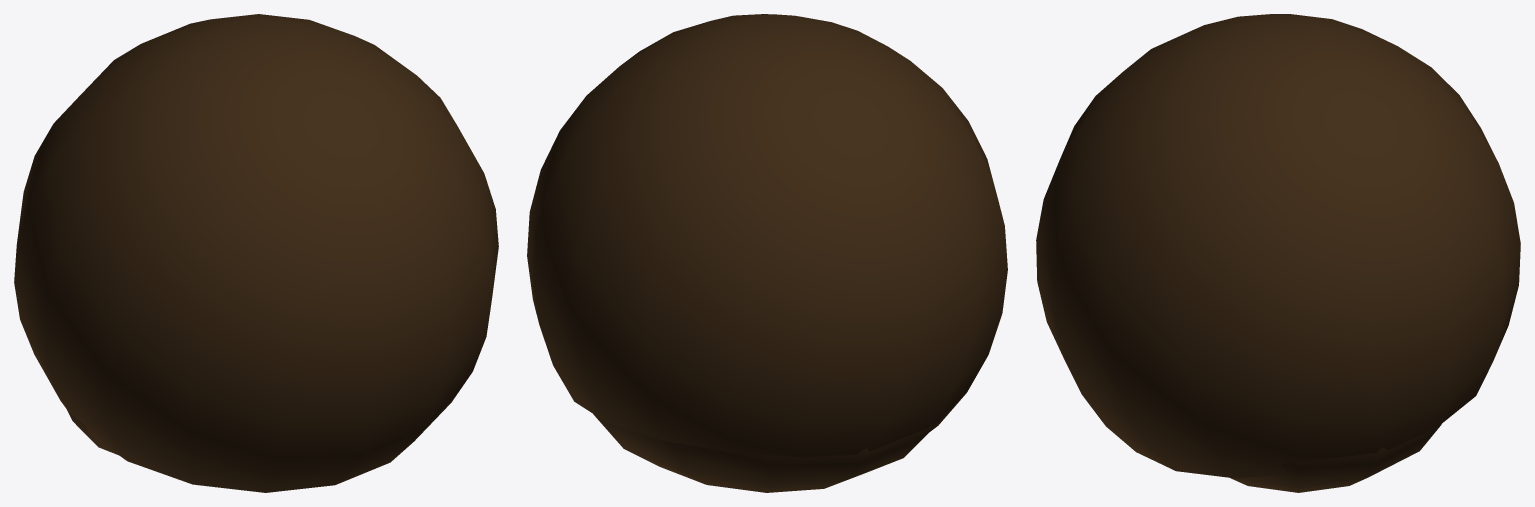
File: bob-placeholder.glb
3 views of the same model, side by side, from view 1: azimuth 30°, elevation 25°; view 2: azimuth 150°, elevation 25°; view 3: azimuth 270°, elevation 25° (orthographic).
Parts seen in each view (by area): view 1: hairVisual; view 2: hairVisual; view 3: hairVisual.
Boxes of the visible parts, x1,y1,x2,y2 form: hairVisual: (14,14,498,492); hairVisual: (527,14,1007,492); hairVisual: (1036,14,1520,492).
Bounding box in the file's own units: 0.2395 × 0.233 × 0.2395.
